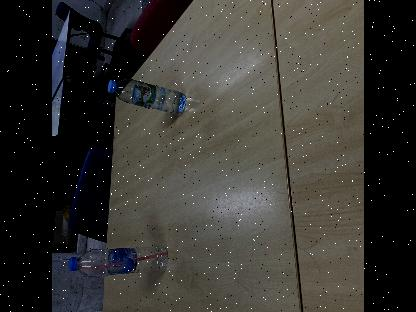Plastic Bottle: (66, 243, 170, 277), (105, 78, 187, 112)
